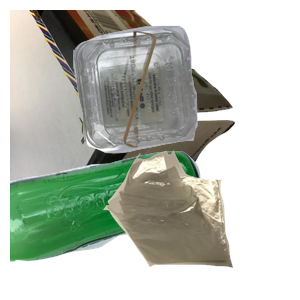cardboard: (10, 10, 238, 190)
glass: (10, 149, 203, 300)
plastic: (71, 23, 300, 169)
trash: (101, 148, 300, 300)
